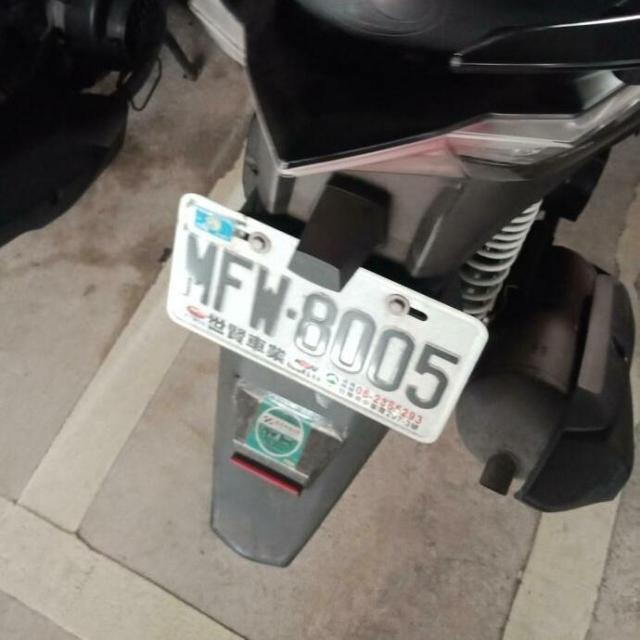W: (142, 195, 505, 454)
